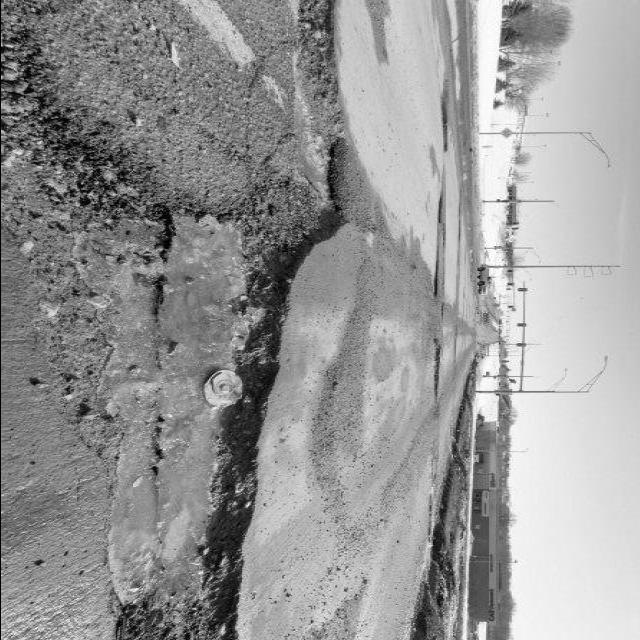lubang: (10, 5, 353, 640), (424, 194, 456, 307), (358, 0, 404, 72), (424, 444, 444, 546), (435, 79, 458, 159), (426, 338, 446, 401), (435, 301, 453, 321)
